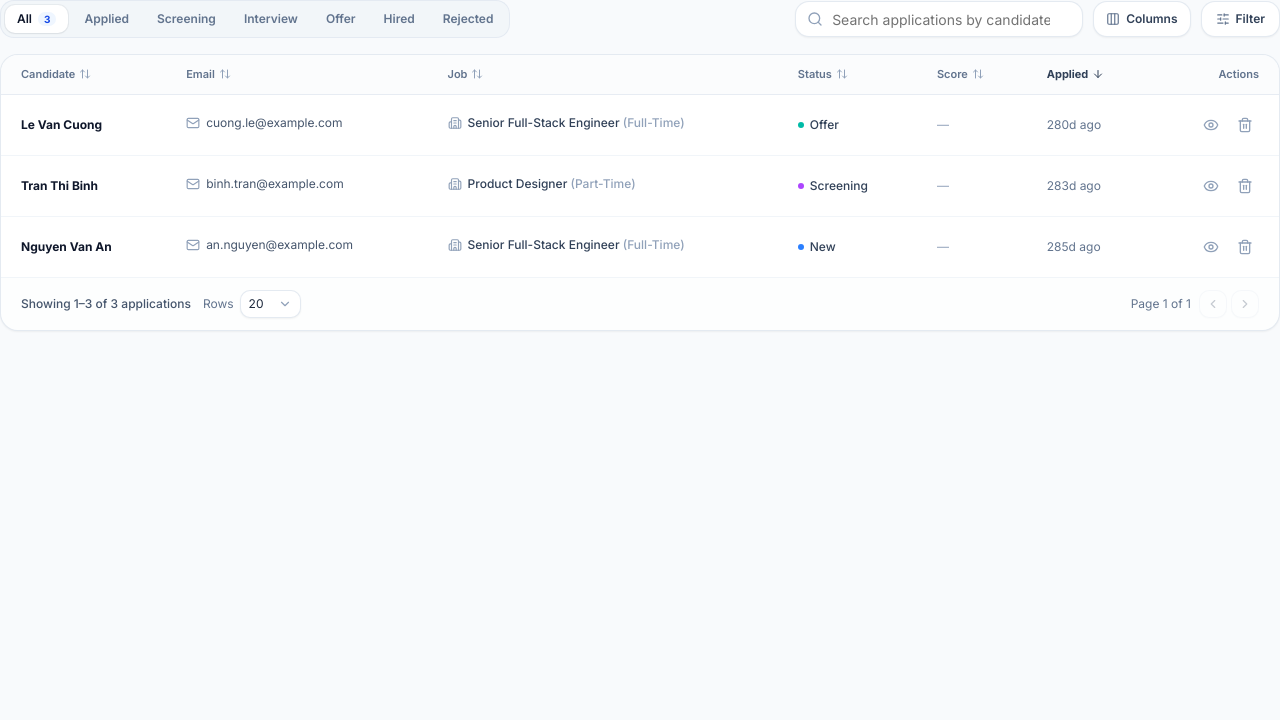
Test: ApplicationsDataTable Component › 4. Filtering & Search › opens filter drawer and filters by job
Click the button "Filter" at (1240,19), box [1200, 1, 1279, 37]
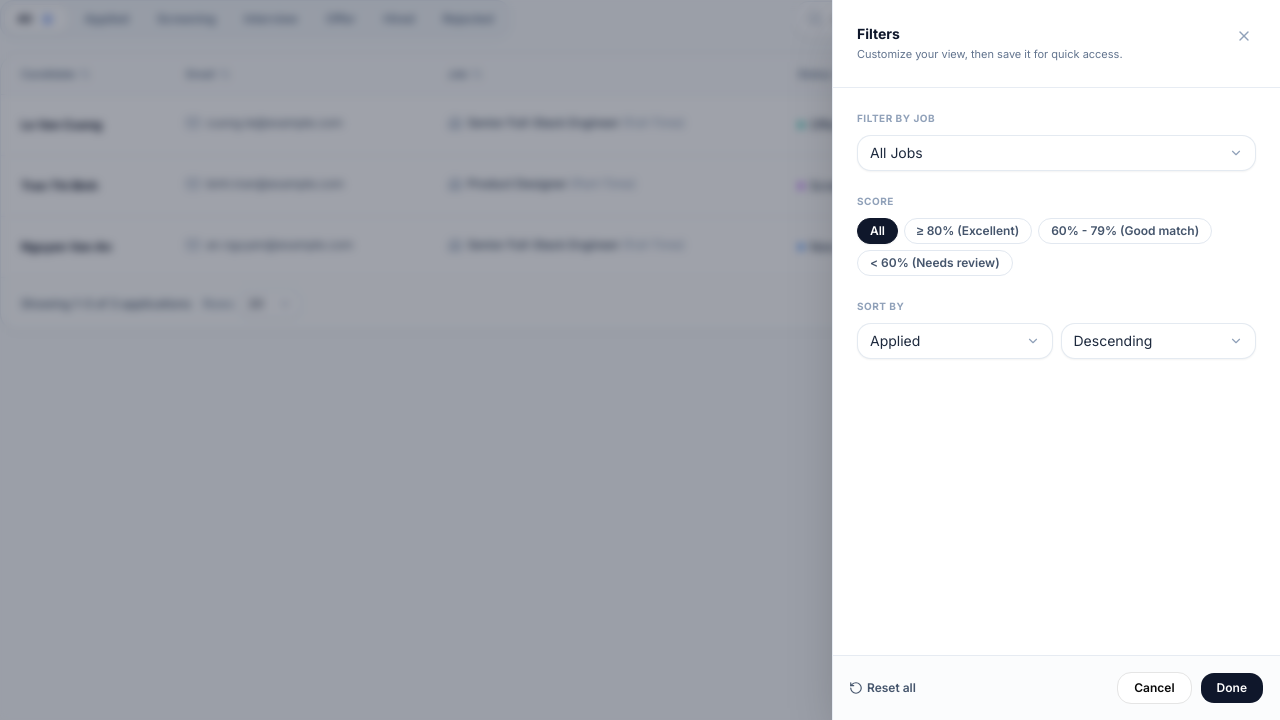
Expected: the heading "Filters" is shown, [857, 25, 900, 42]
Expected: the text "Filter by job" is shown, [857, 112, 935, 124]
